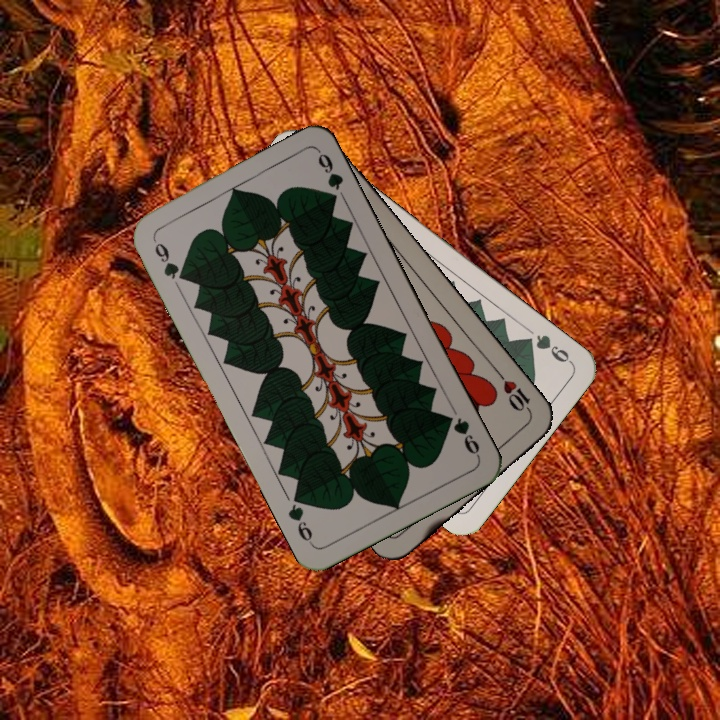G9: (440, 410, 483, 460), (518, 330, 575, 366), (149, 235, 189, 284)
H10: (494, 368, 536, 419)
